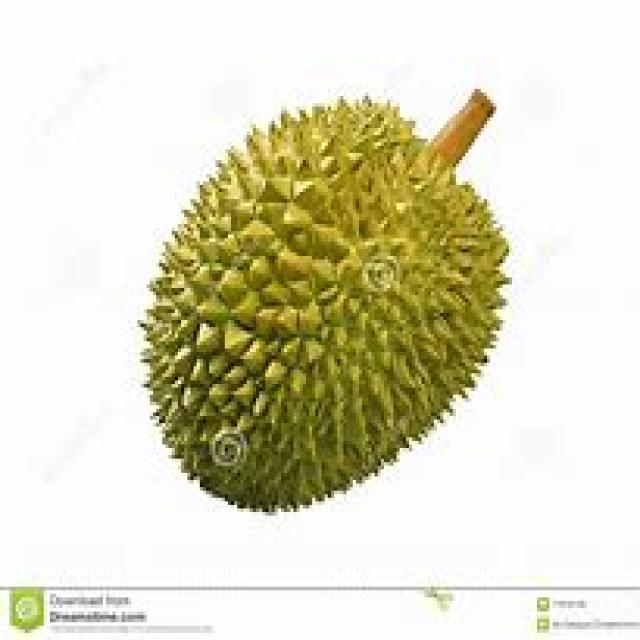immature: (134, 93, 512, 515)
